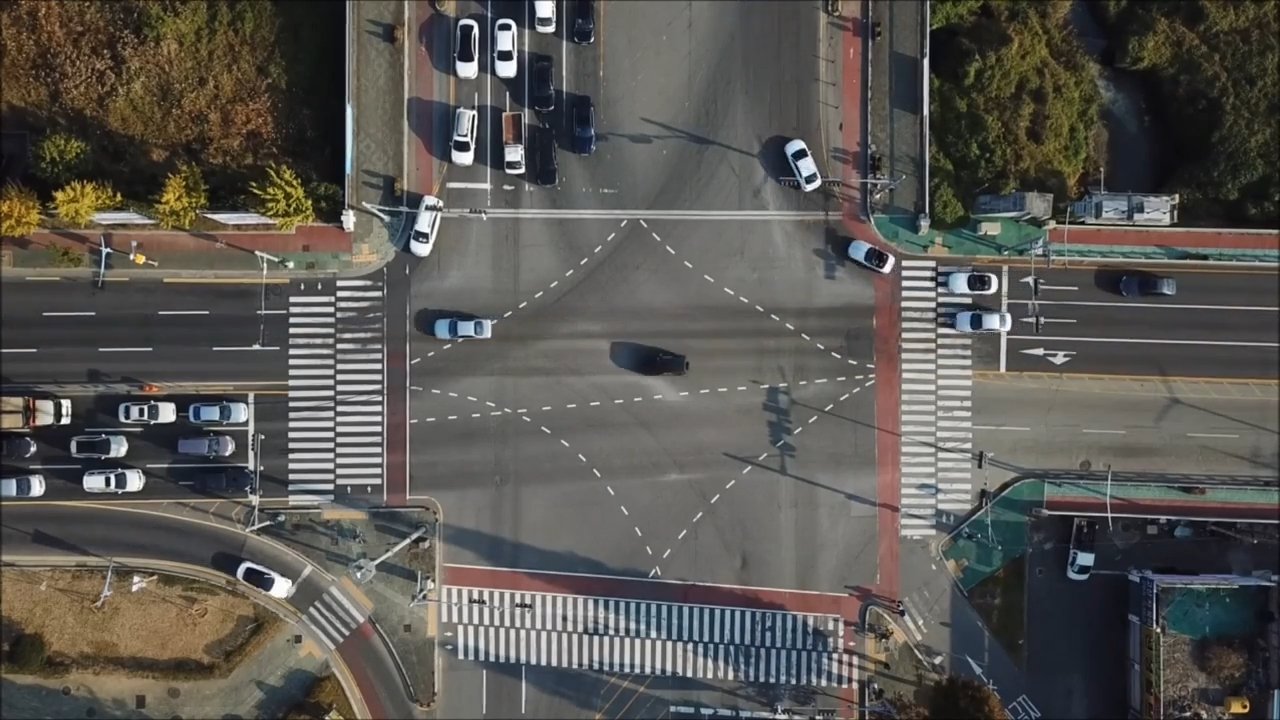car: (781, 135, 823, 193), (232, 560, 291, 601), (408, 196, 444, 259), (846, 239, 896, 283), (1, 396, 70, 426), (1067, 515, 1097, 580), (186, 463, 248, 494), (449, 107, 479, 169), (453, 16, 480, 81), (948, 268, 1008, 297), (491, 13, 518, 77), (1117, 274, 1178, 301), (81, 468, 146, 493), (534, 124, 559, 189), (952, 308, 1012, 335), (429, 316, 493, 340), (532, 50, 556, 114), (500, 109, 524, 171), (115, 401, 177, 424), (176, 432, 234, 455), (68, 435, 125, 458), (571, 94, 593, 153), (187, 402, 246, 423), (634, 354, 688, 376), (571, 1, 595, 43), (1, 476, 45, 497), (533, 1, 559, 32), (1, 438, 35, 456)
